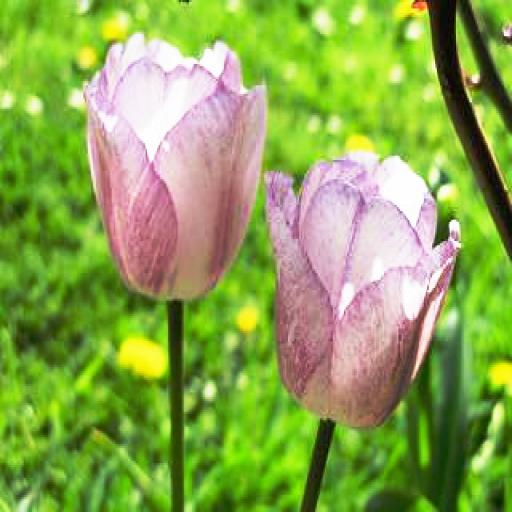tulip: (262, 158, 461, 431), (82, 32, 267, 301)
